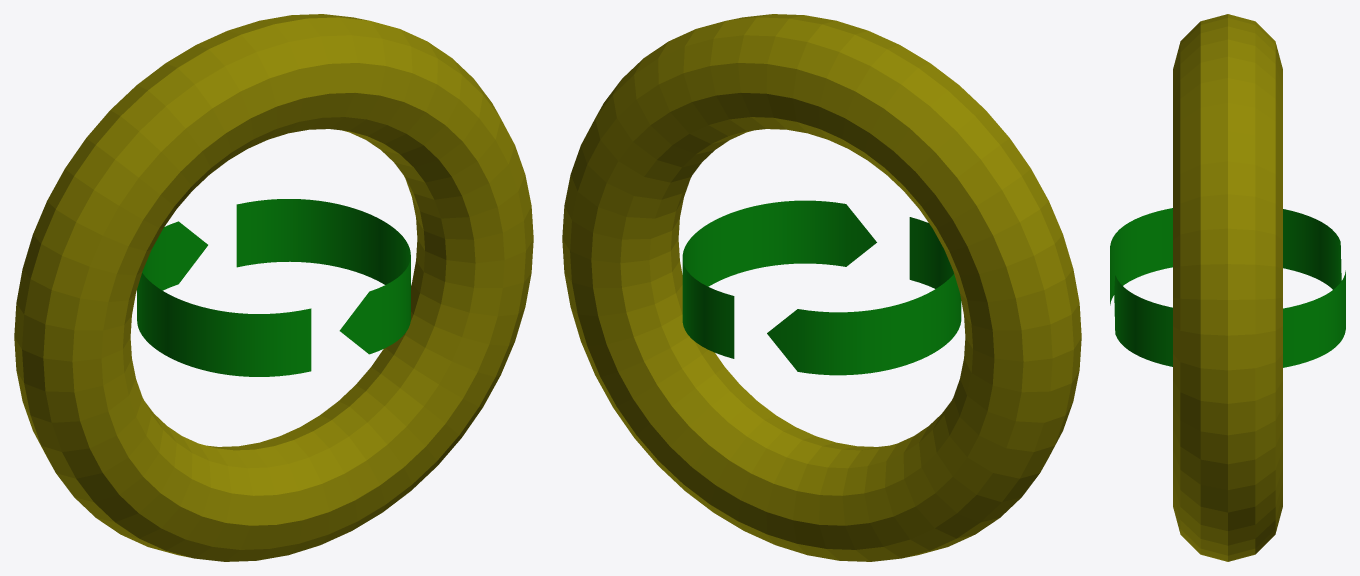
The model's file is turnaroundicon.glb.
3 views of the same model, side by side, from view 1: azimuth 30°, elevation 25°; view 2: azimuth 150°, elevation 25°; view 3: azimuth 270°, elevation 25° (orthographic). The views are drawn at different scales.
Visible parts, largest first — view 1: Torus, NurbsCurve.001; view 2: Torus, NurbsCurve.001; view 3: Torus, NurbsCurve.001.
Part boxes in pixels (bbox=[...]): Torus: bbox=[14, 14, 533, 561]; NurbsCurve.001: bbox=[137, 199, 410, 376]; Torus: bbox=[562, 14, 1081, 561]; NurbsCurve.001: bbox=[682, 200, 961, 375]; Torus: bbox=[1173, 14, 1282, 561]; NurbsCurve.001: bbox=[1110, 208, 1345, 367].
Size of the model in its own units: 2.5 by 2.5 by 1.08.
